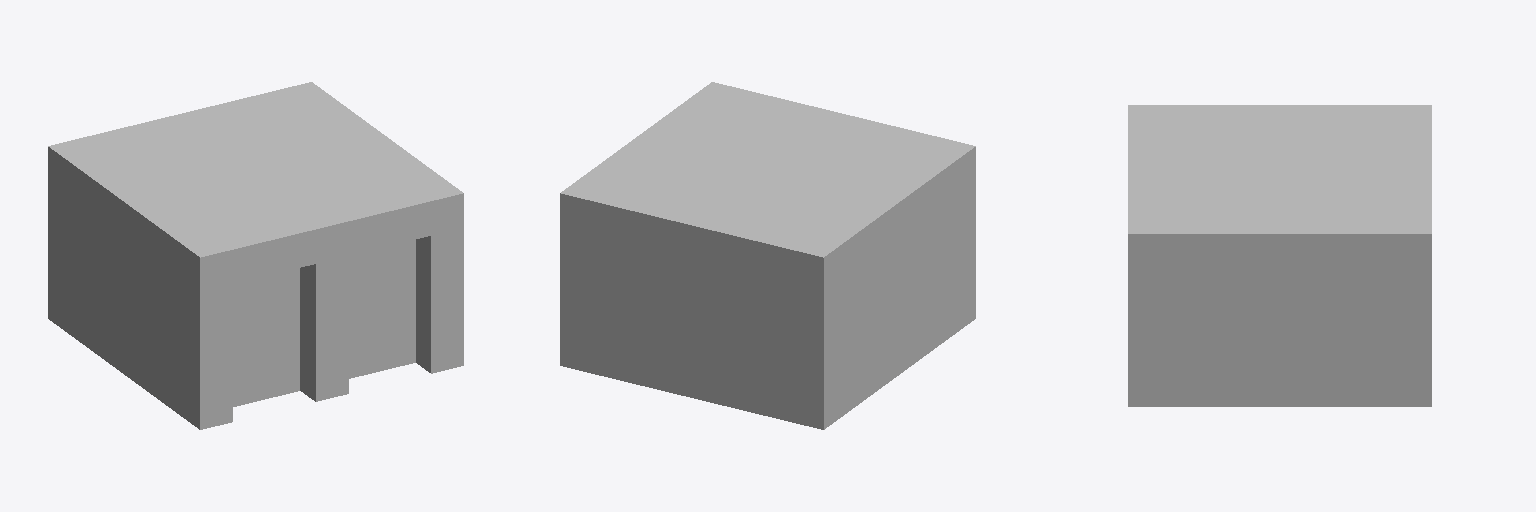
File: building-windows-high-top-square.obj
3 views of the same model, side by side, from view 1: azimuth 30°, elevation 25°; view 2: azimuth 150°, elevation 25°; view 3: azimuth 270°, elevation 25° (orthographic).
Visible parts, largest first — view 1: building-windows-high-top-square; view 2: building-windows-high-top-square; view 3: building-windows-high-top-square.
Boxes of the visible parts, box(x1,y1,x2,y2) form: building-windows-high-top-square: box(48, 82, 463, 429); building-windows-high-top-square: box(560, 82, 975, 429); building-windows-high-top-square: box(1128, 105, 1431, 406).
Bounding box in the file's own units: 1 × 0.625 × 1.